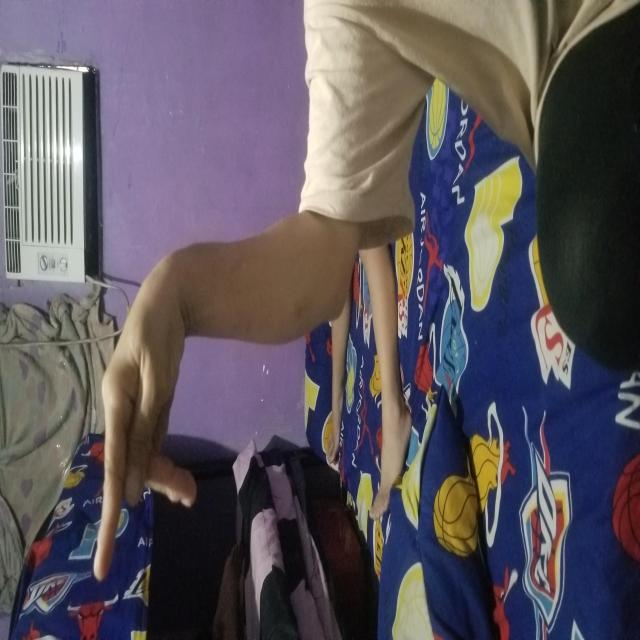P: (56, 93, 356, 195)
